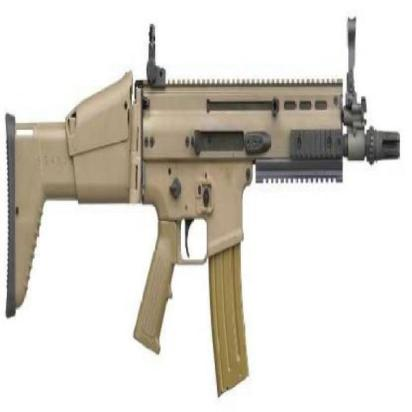Gun: (6, 19, 402, 318)
